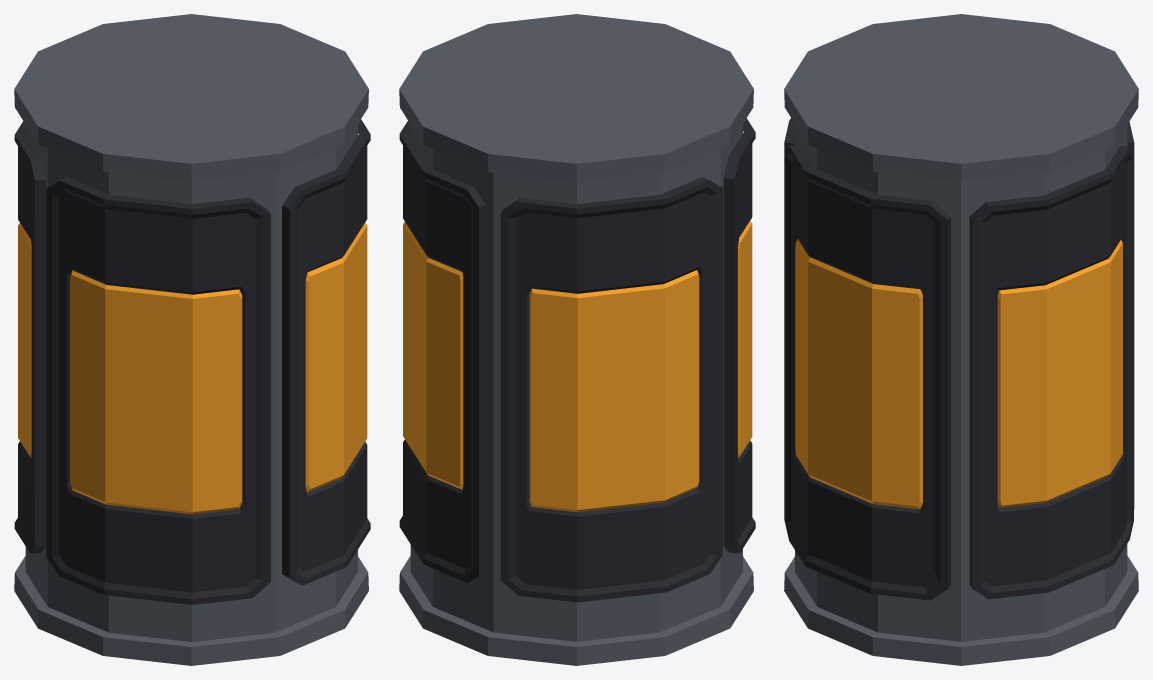
The model's file is SM_Straight_pipe_1m.glb.
3 renders of one model, left to right at view 1: azimuth 30°, elevation 25°; view 2: azimuth 150°, elevation 25°; view 3: azimuth 270°, elevation 25°, orthographic.
Visible parts, largest first — view 1: SM_Straight_pipe_1m; view 2: SM_Straight_pipe_1m; view 3: SM_Straight_pipe_1m.
Boxes of the visible parts, x1,y1,x2,y2 form: SM_Straight_pipe_1m: [14, 14, 370, 665]; SM_Straight_pipe_1m: [399, 14, 755, 665]; SM_Straight_pipe_1m: [784, 14, 1138, 665].
Size of the model in its own units: 0.6403 by 1 by 0.6403.
1 material, 1 textured.
